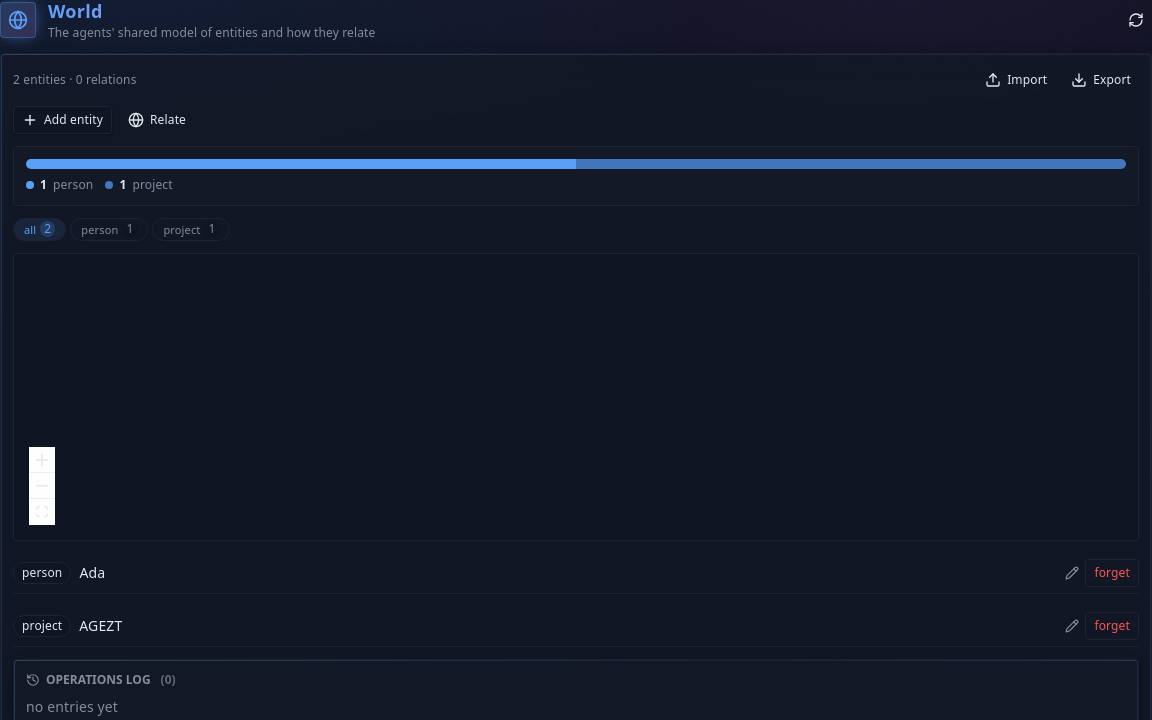
Test: World entity editing surface › keeps add and relate forms behind action modals on the page
Expected: the text "Ada" is shown, [79,562,105,584]
Click the button "Add entity" at coordinates (62, 120), box [13,106,112,134]
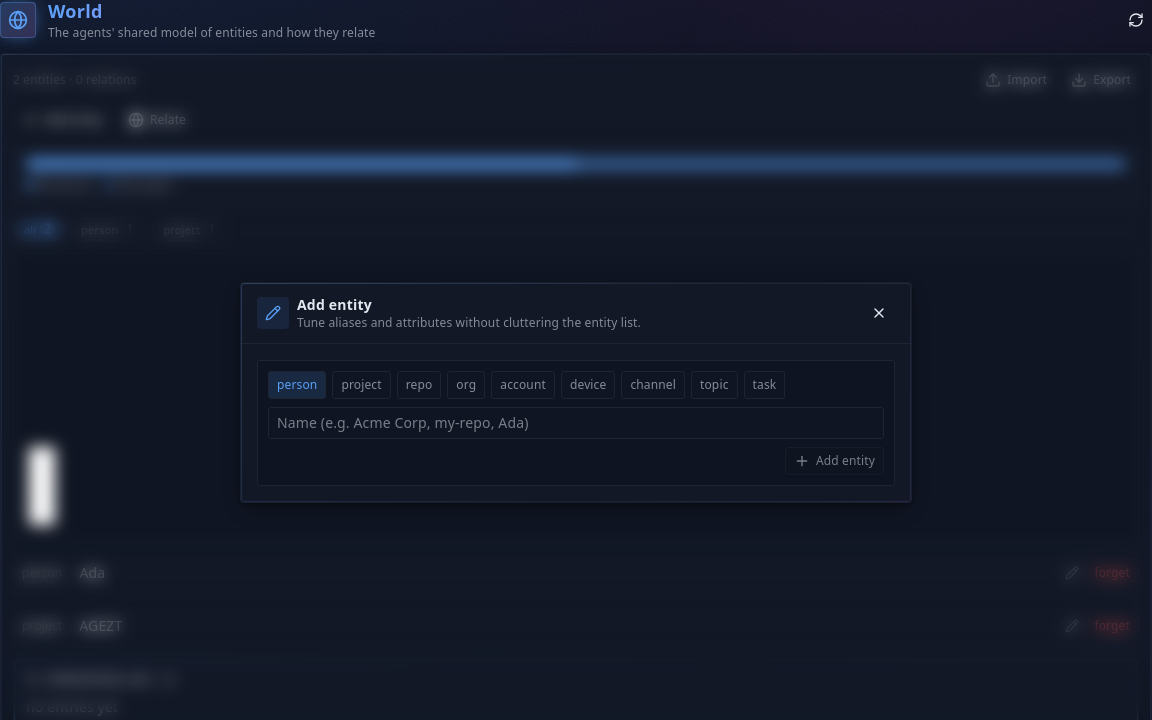
Now the dialog "Add entity" is shown, box [240,282,912,503]
Click the button named "Close world modal" at coordinates (879, 313), box [863,297,895,329]
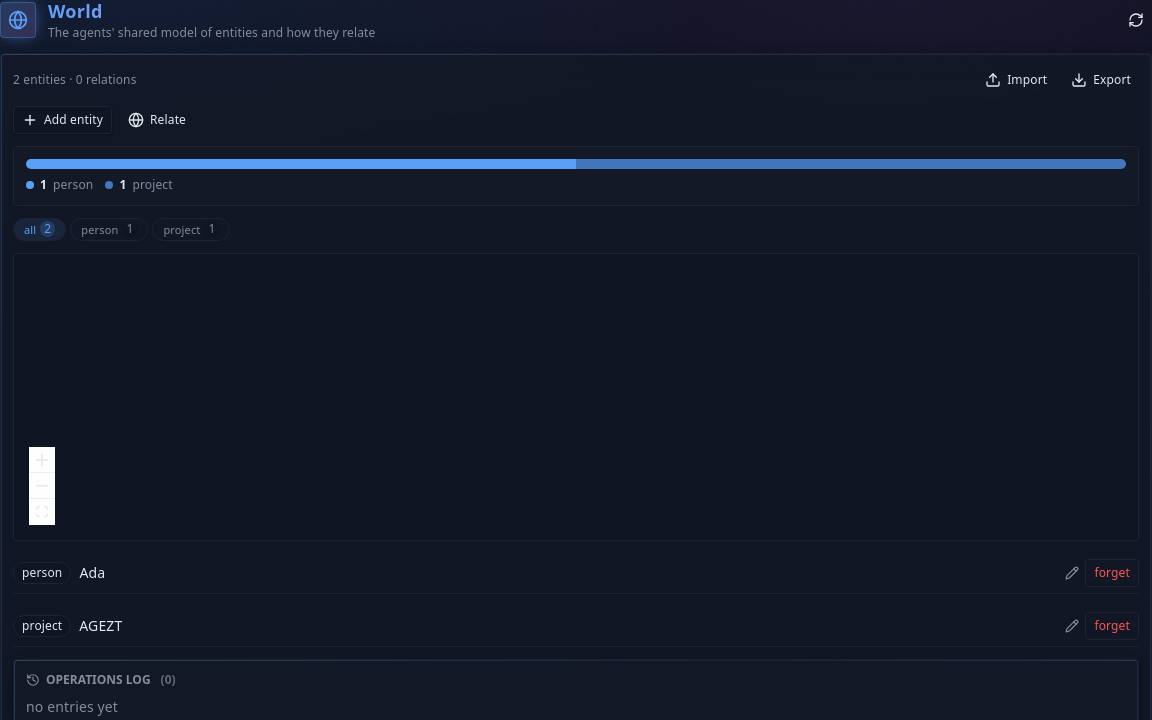
Click the button "Relate" at coordinates (157, 120), box [120,106,194,134]
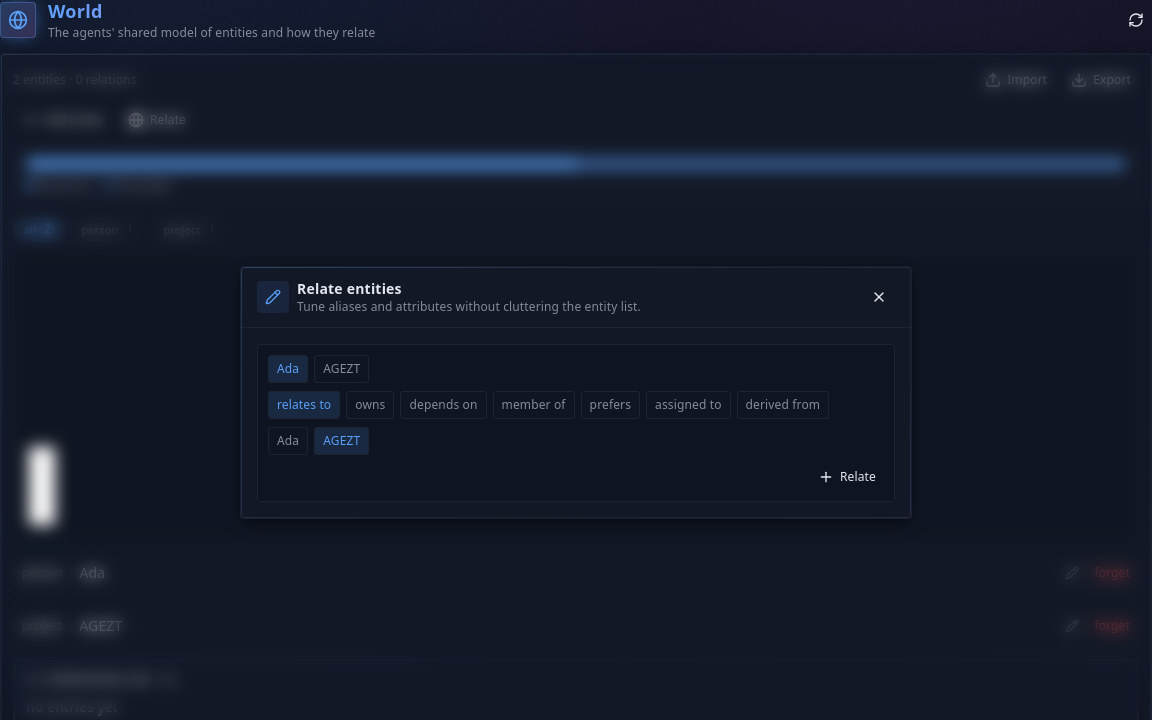
Now the dialog "Relate entities" is shown, box [240,266,912,519]
